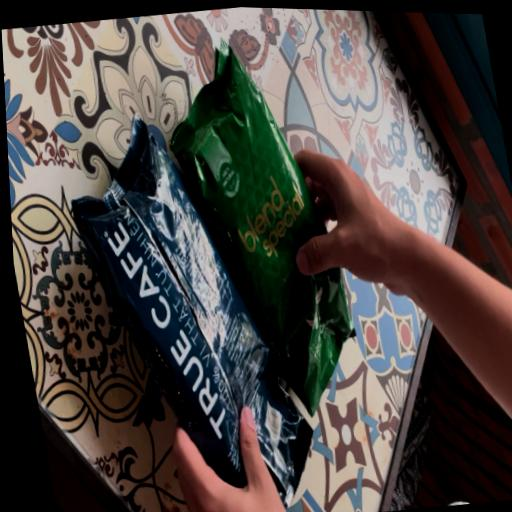cafe_hat: (71, 115, 311, 504)
cafe_xay: (169, 39, 352, 414)
